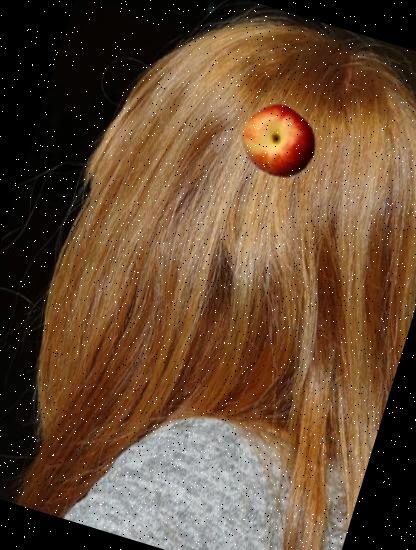Nectarine: (232, 93, 327, 188)
